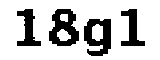1: (13, 6, 43, 51), (117, 7, 148, 49)
8: (46, 8, 80, 49)
g: (83, 17, 114, 58)
